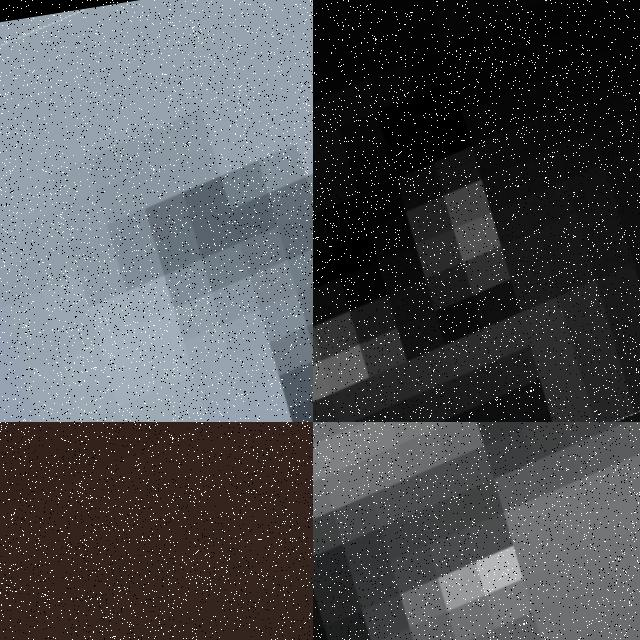drone: (313, 0, 640, 422), (0, 0, 313, 422), (313, 422, 640, 640), (0, 422, 313, 640)
